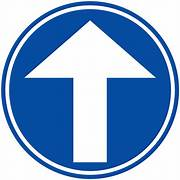forward: (1, 1, 179, 178)
